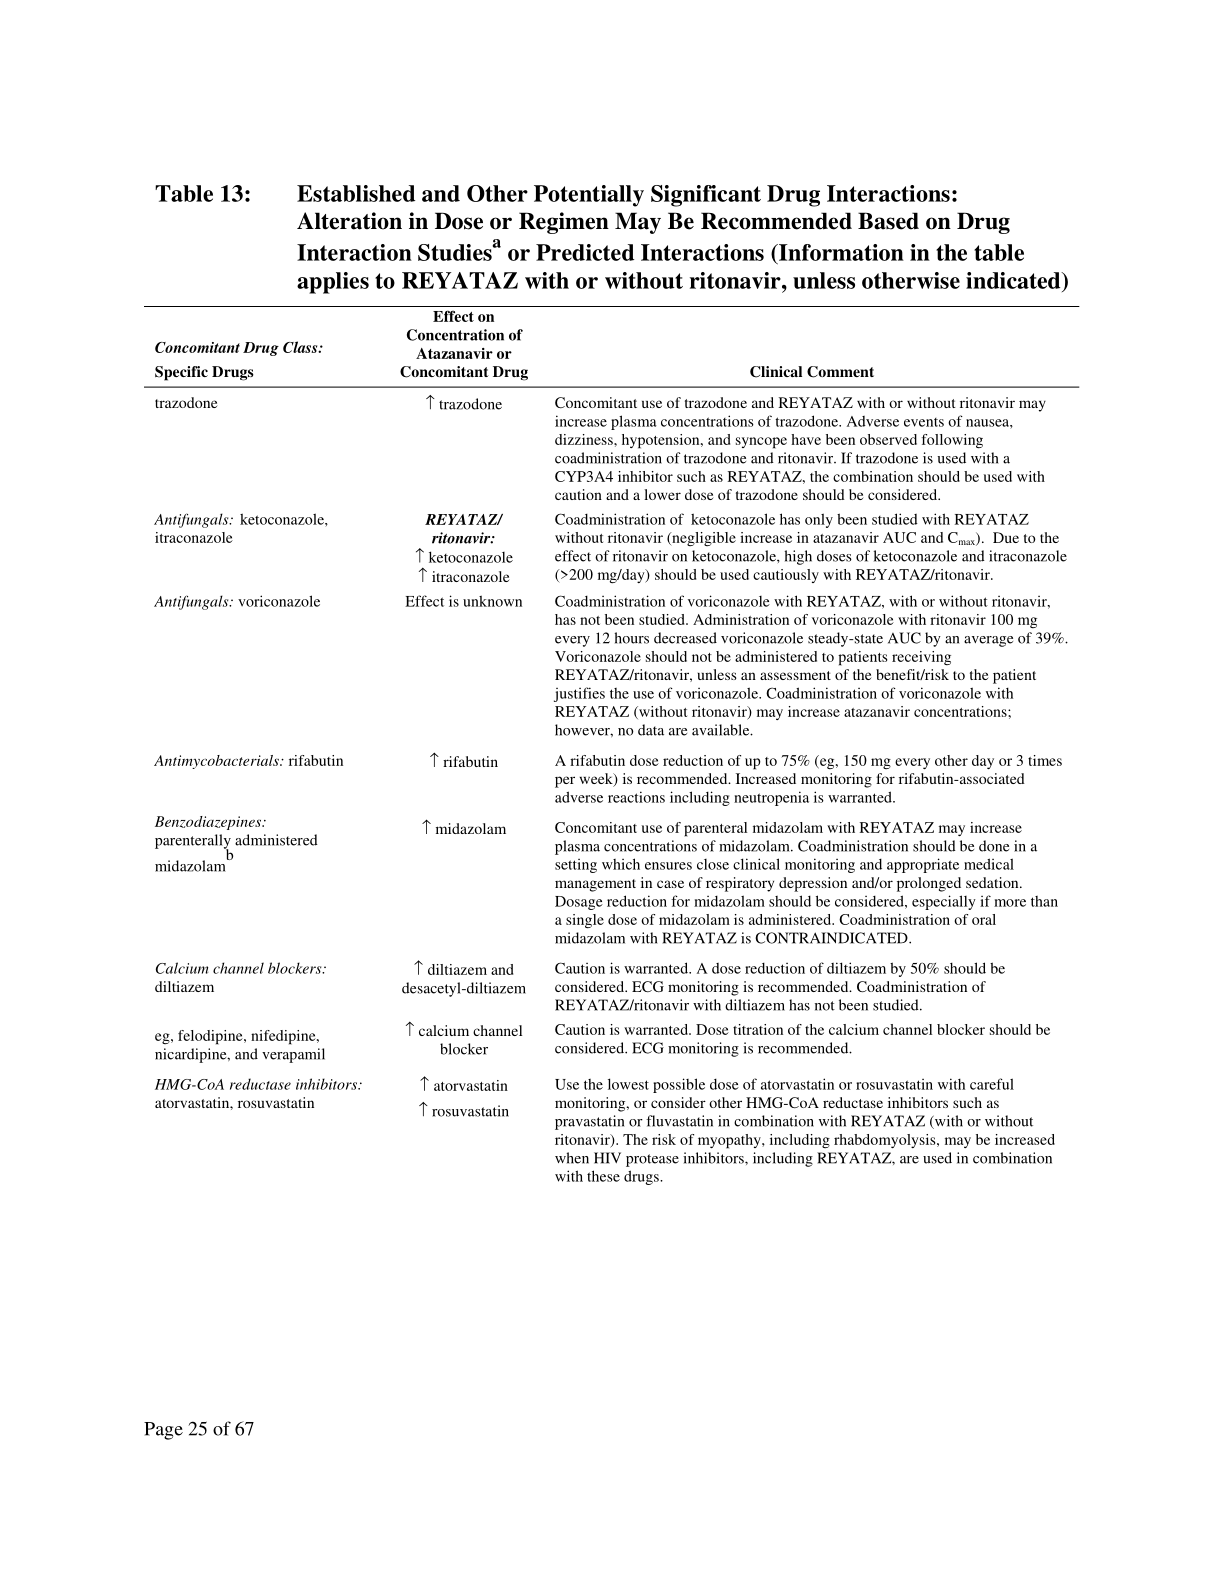partial_lined: (141, 301, 1079, 1188)
